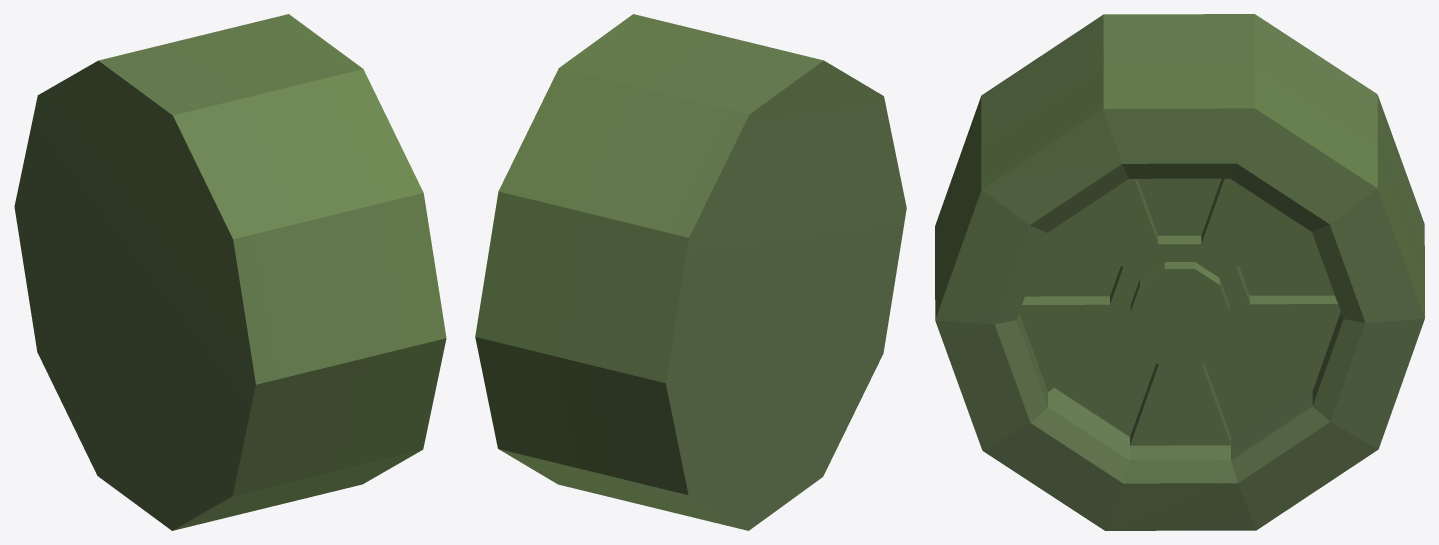
The model's file is Wheel_03.fbx.
The picture shows the model from 3 angles, left to right: view 1: azimuth 30°, elevation 25°; view 2: azimuth 150°, elevation 25°; view 3: azimuth 270°, elevation 25°; orthographic projection.
Visible parts, largest first — view 1: Wheel_03; view 2: Wheel_03; view 3: Wheel_03.
Boxes of the visible parts, bbox=[...] form: Wheel_03: bbox=[14, 14, 446, 530]; Wheel_03: bbox=[475, 14, 906, 530]; Wheel_03: bbox=[935, 14, 1424, 530].
Bounding box in the file's own units: 0.2678 × 0.5364 × 0.5635.
